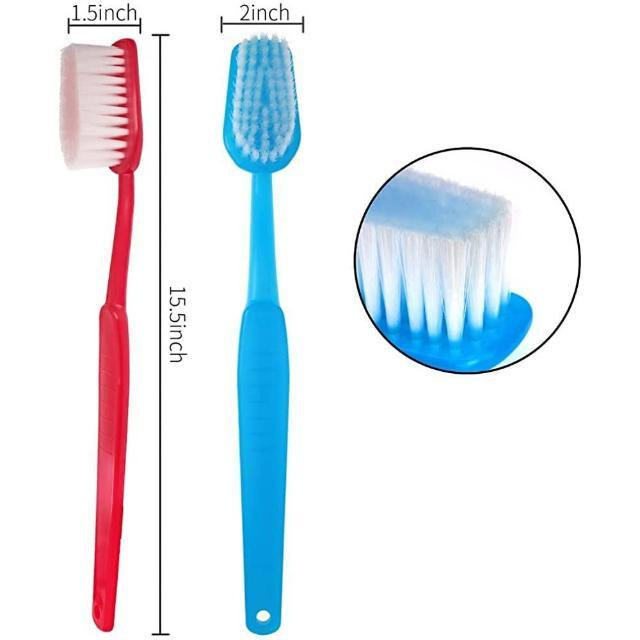toothbrush: (219, 36, 315, 640)
